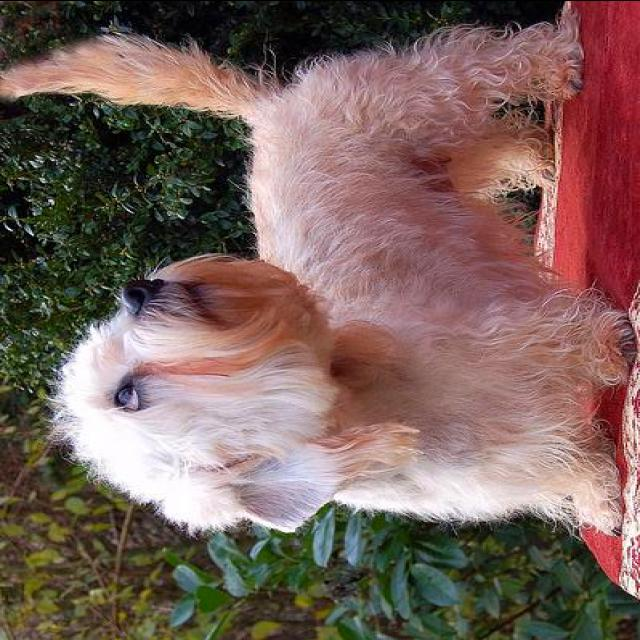dandie_dinmont: (0, 6, 637, 534)
